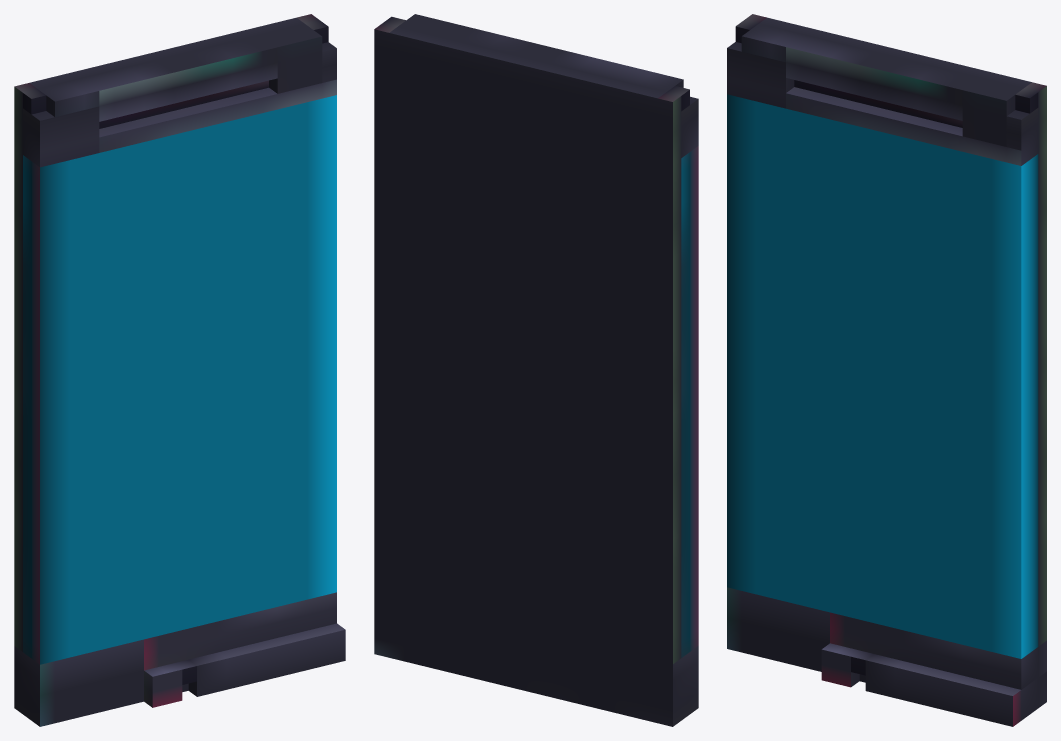
File: BillboardModule_Screen_C_00.fbx
3 views of the same model, side by side, from view 1: azimuth 30°, elevation 25°; view 2: azimuth 150°, elevation 25°; view 3: azimuth 330°, elevation 25° (orthographic).
Parts seen in each view (by area): view 1: BillboardModule_Screen_C_00; view 2: BillboardModule_Screen_C_00; view 3: BillboardModule_Screen_C_00.
Part boxes in pixels (<box>): BillboardModule_Screen_C_00: <box>14,14,345,726</box>; BillboardModule_Screen_C_00: <box>374,14,698,726</box>; BillboardModule_Screen_C_00: <box>727,14,1046,726</box>.
Bounding box in the file's own units: 100 × 200 × 20.
